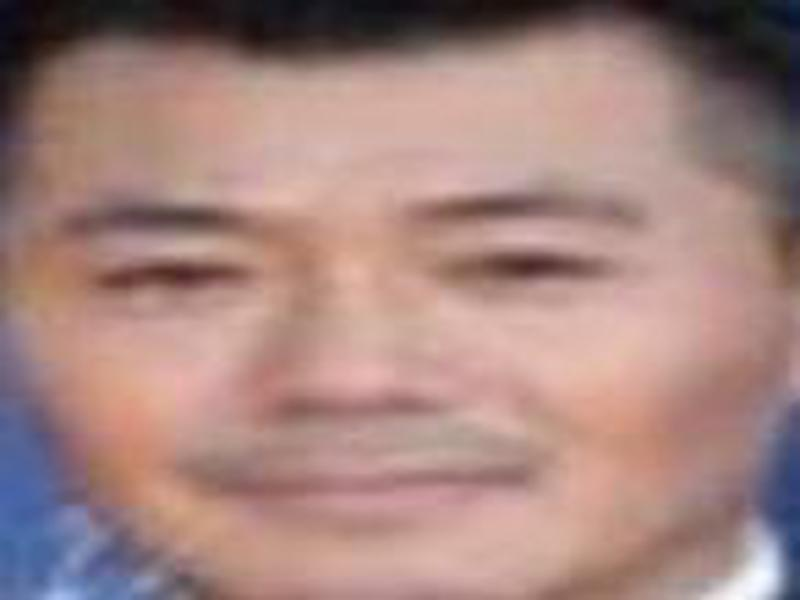without_mask: (29, 53, 751, 585)
